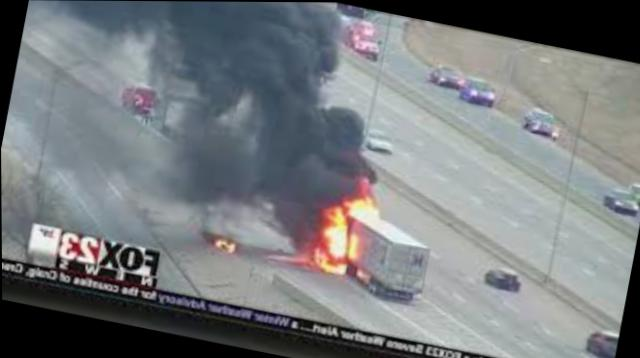fire: (261, 156, 388, 287), (206, 227, 250, 259)
